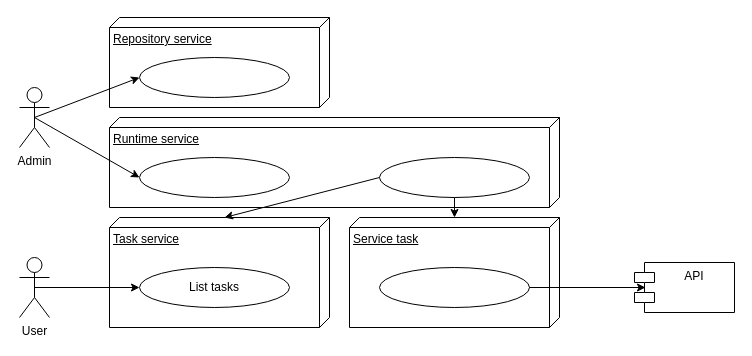
Image size: 752x356. Some labels were removed from this diagram. The centre of each missing label's shape, as x and y in pixels:
"Calling system" goes at point (454, 287).
"List all ProcessInstances" goes at point (214, 177).
"Manage ProcessDefinition" goes at point (214, 77).
"Orchestrate" goes at point (454, 177).
